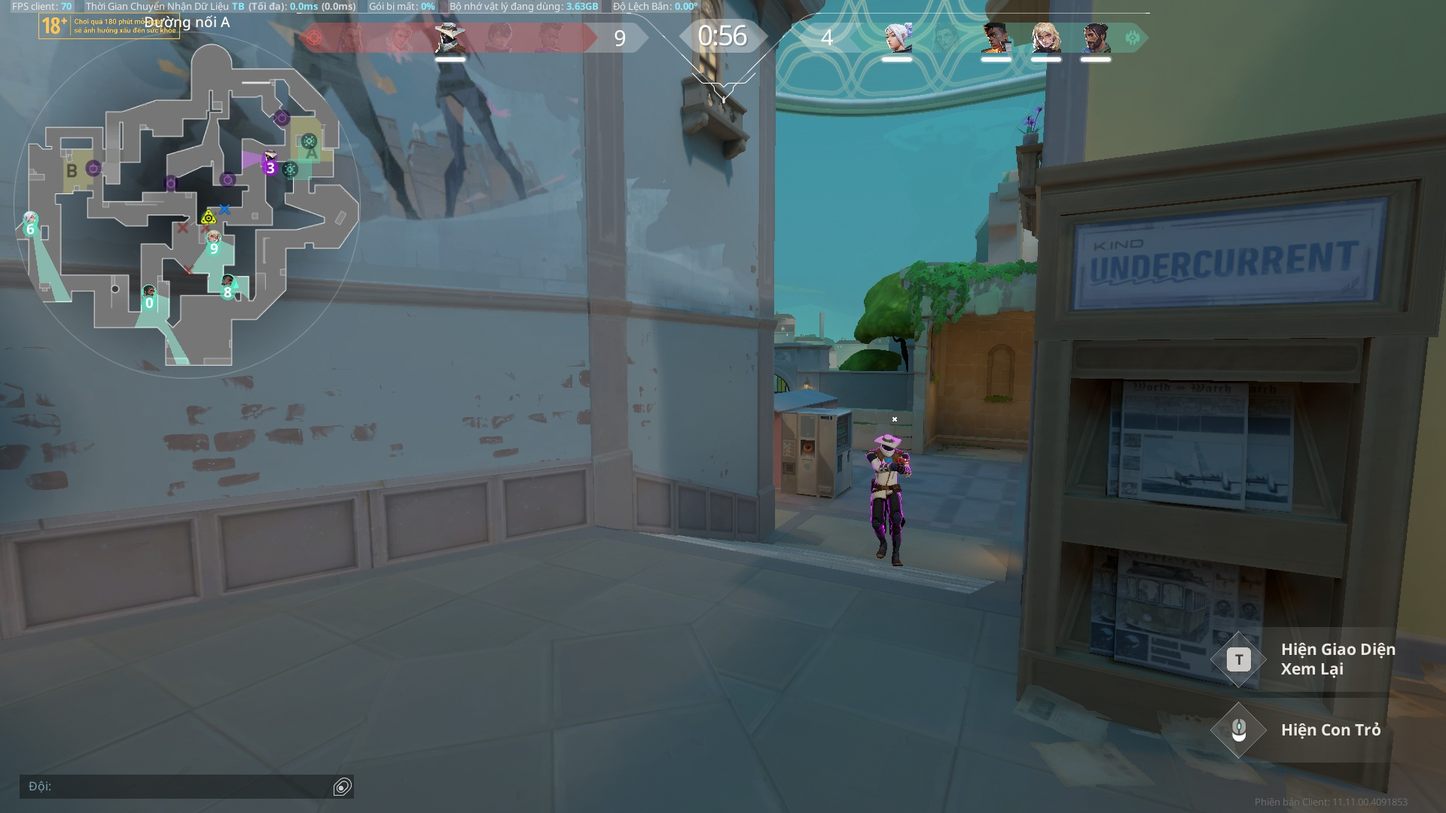body: (865, 446, 911, 484)
head: (880, 434, 894, 451)
